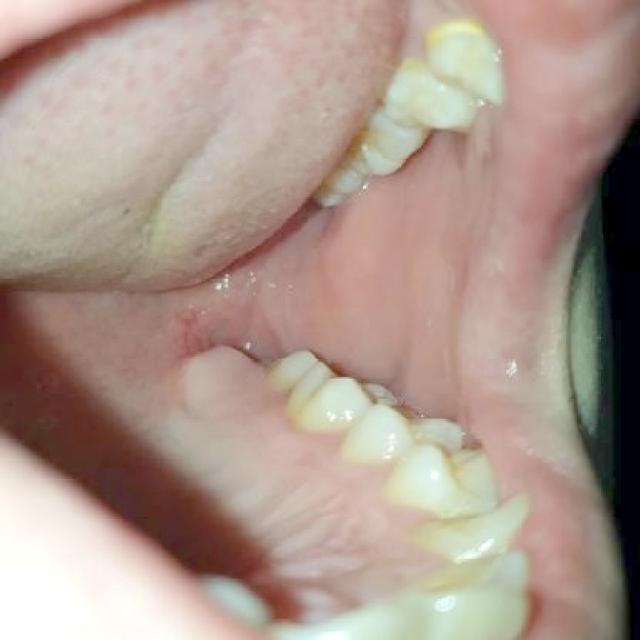Plaque: (266, 399, 324, 446)
